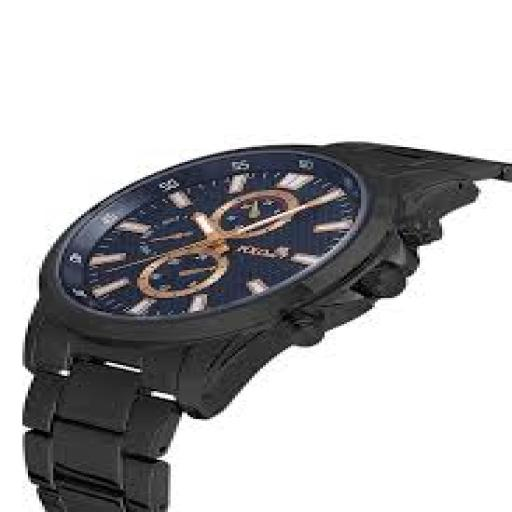KolSaati: (1, 127, 512, 512)
